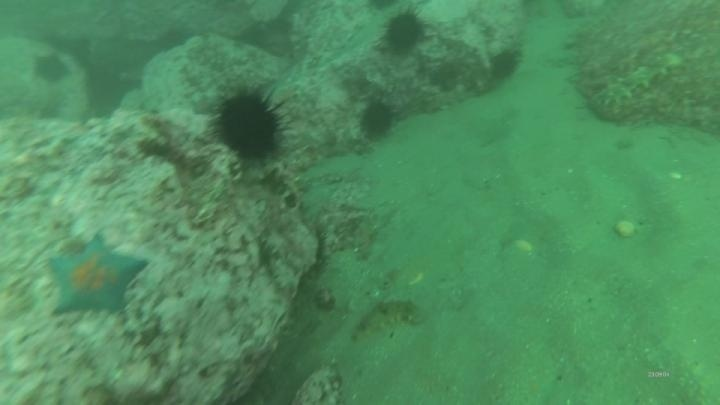echinus: (209, 84, 290, 167), (380, 8, 429, 56), (357, 97, 398, 142), (31, 51, 72, 87), (487, 46, 523, 83)
holothurian: (587, 49, 686, 116), (349, 295, 425, 341)
starfish: (45, 233, 150, 319)
